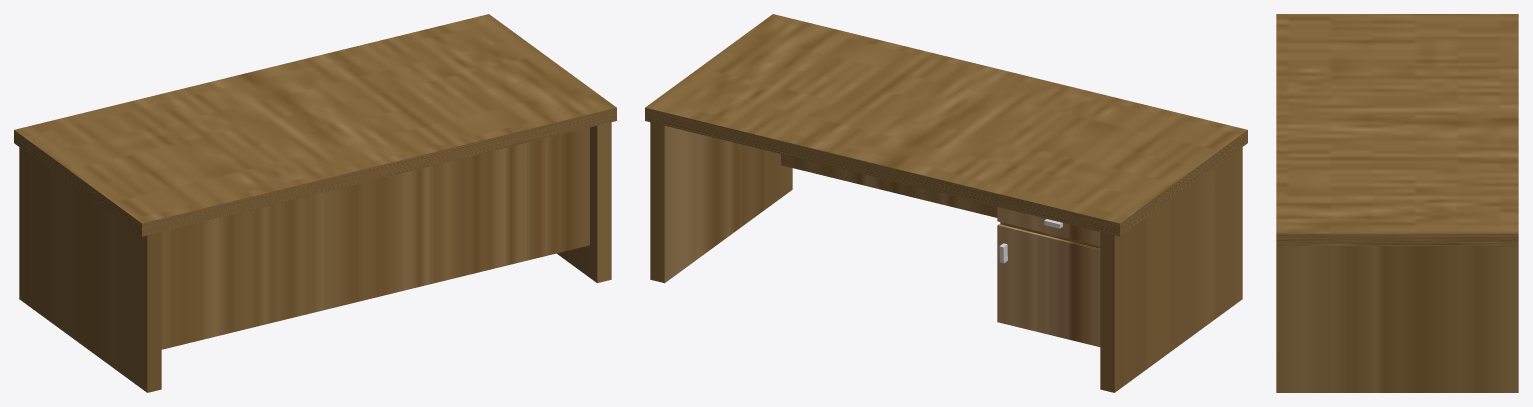
The model's file is meja3.glb.
3 views of the same model, side by side, from view 1: azimuth 30°, elevation 25°; view 2: azimuth 150°, elevation 25°; view 3: azimuth 270°, elevation 25° (orthographic). The views are drawn at different scales.
Visible parts, largest first — view 1: Cube; view 2: Cube, Cube.001; view 3: Cube.
Boxes of the visible parts, x1,y1,x2,y2 form: Cube: [14, 14, 616, 392]; Cube: [645, 14, 1247, 392]; Cube.001: [997, 207, 1100, 346]; Cube: [1276, 14, 1518, 392].
Size of the model in its own units: 1.5 by 0.5154 by 0.7.
Materials: 2 (2 with a texture image).
